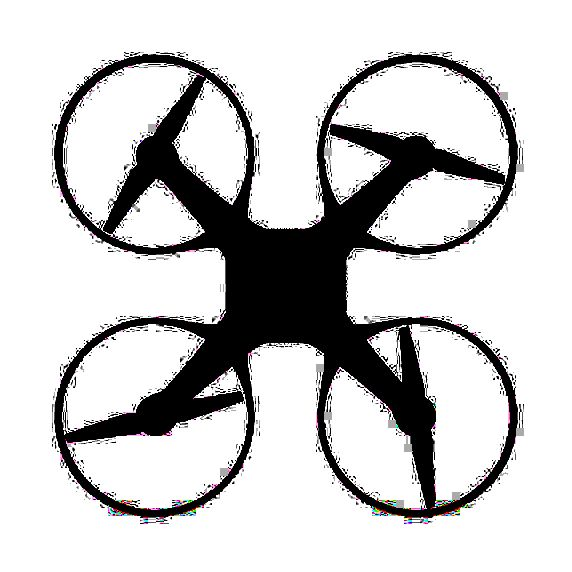Drone: (37, 41, 539, 536)
